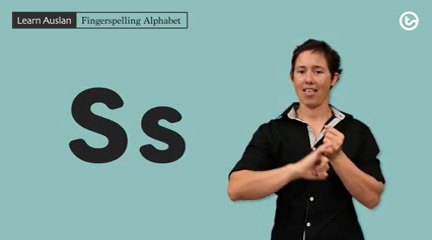S: (283, 120, 352, 187)
